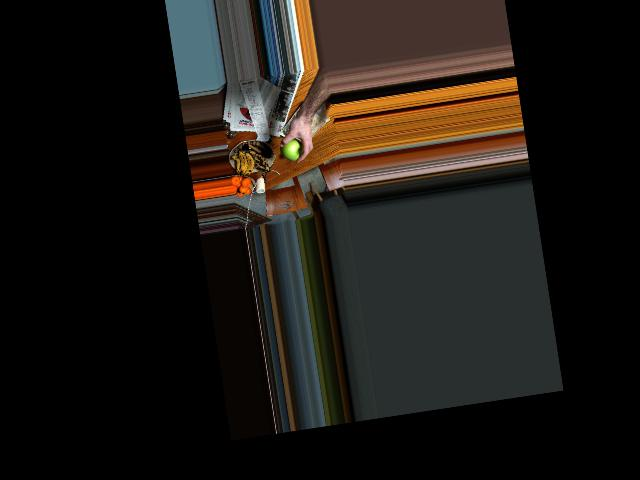apple: (279, 134, 306, 164)
